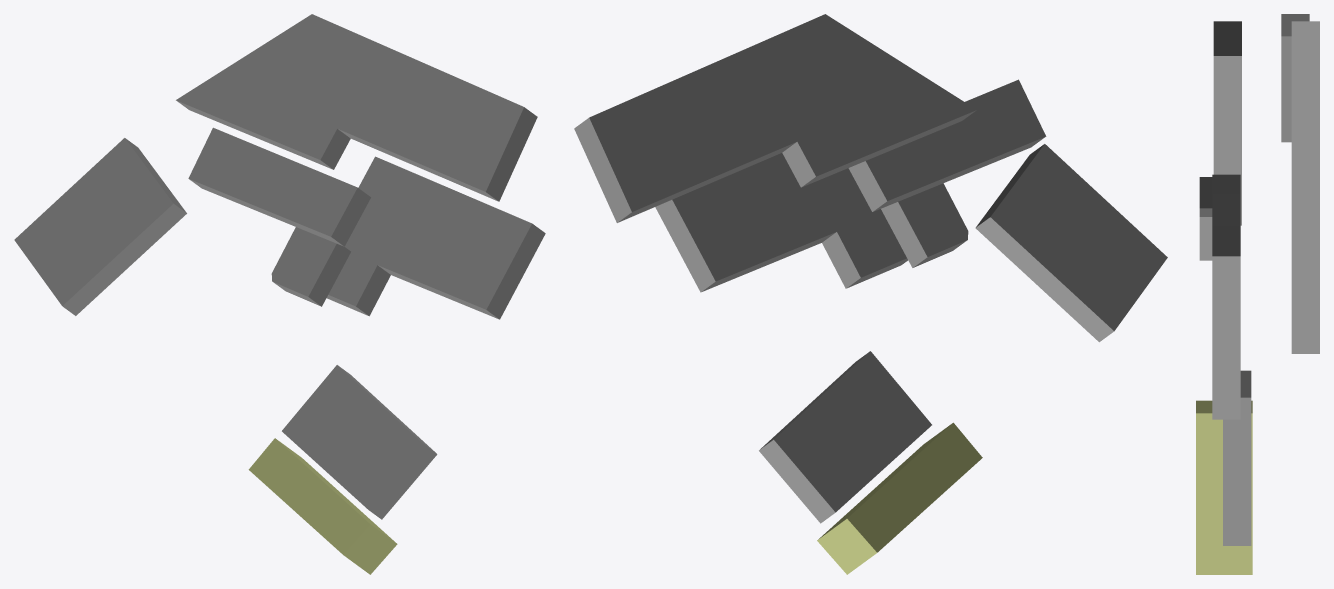
3 views of the same model, side by side, from view 1: azimuth 30°, elevation 25°; view 2: azimuth 150°, elevation 25°; view 3: azimuth 270°, elevation 25° (orthographic). The views are drawn at different scales.
Parts seen in each view (by area): view 1: 0_1_2_0_0_1_2_2; view 2: 0_1_2_0_0_1_2_2; view 3: 0_1_2_0_0_1_2_2.
Part boxes in pixels (x1,y1,x2,y2): 0_1_2_0_0_1_2_2: (14,14,545,574); 0_1_2_0_0_1_2_2: (574,14,1167,574); 0_1_2_0_0_1_2_2: (1196,14,1319,574).
Bounding box in the file's own units: 65.87 × 63.24 × 13.14.
